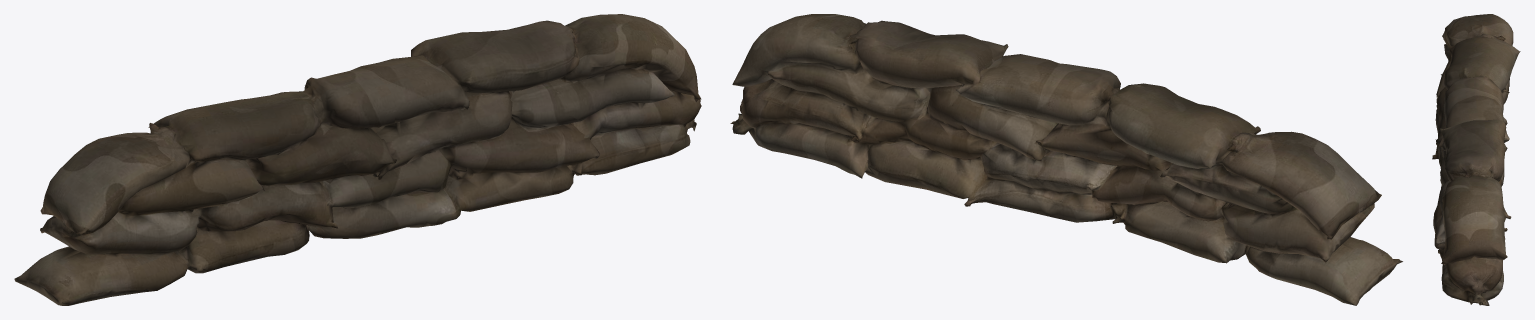
The picture shows the model from 3 angles, left to right: view 1: azimuth 30°, elevation 25°; view 2: azimuth 150°, elevation 25°; view 3: azimuth 270°, elevation 25°; orthographic projection. The views are drawn at different scales.
Parts seen in each view (by area): view 1: SM_SBFlat__0; view 2: SM_SBFlat__0; view 3: SM_SBFlat__0.
Boxes of the visible parts, x1=… form: SM_SBFlat__0: x1=14, y1=14, x2=701, y2=305; SM_SBFlat__0: x1=730, y1=14, x2=1402, y2=305; SM_SBFlat__0: x1=1432, y1=14, x2=1520, y2=305.
Size of the model in its own units: 4.59 by 1.03 by 0.7365.
Materials: 1 (1 with a texture image).
